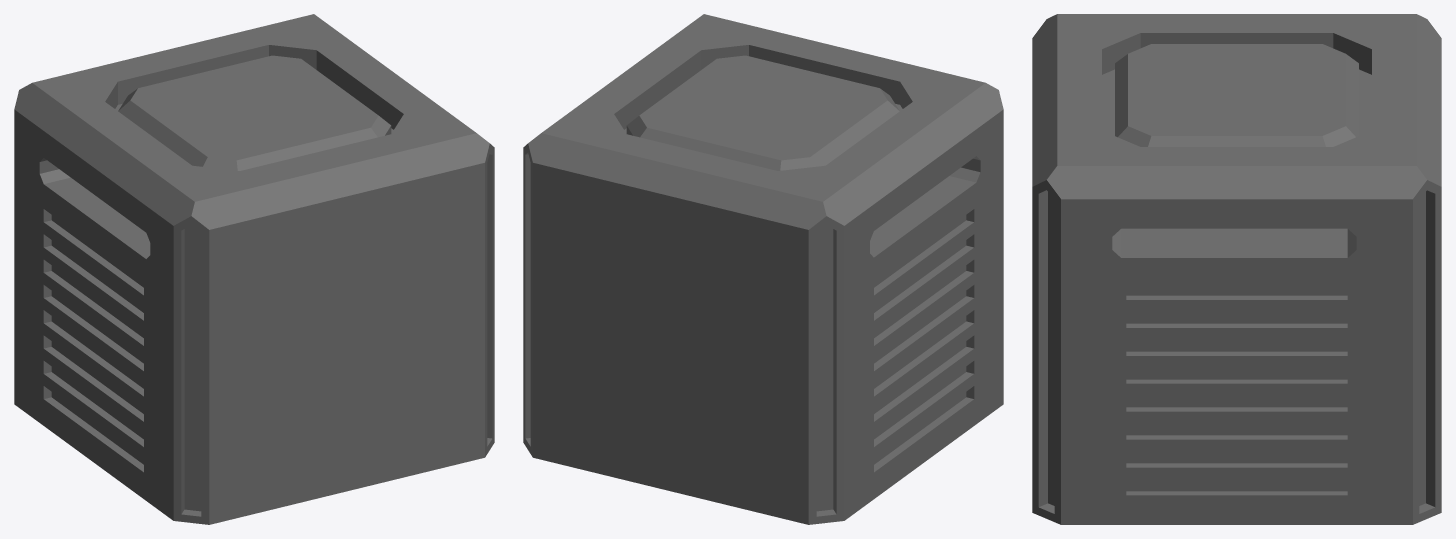
The picture shows the model from 3 angles, left to right: view 1: azimuth 30°, elevation 25°; view 2: azimuth 150°, elevation 25°; view 3: azimuth 270°, elevation 25°; orthographic projection. The views are drawn at different scales.
Parts seen in each view (by area): view 1: Main, Part1; view 2: Main, Part1; view 3: Main, Part1, Part2.
Part boxes in pixels (x1,y1,x2,y2): Main: (14,14,494,524); Part1: (43,209,143,472); Main: (523,14,1003,524); Part1: (874,209,974,472); Main: (1032,14,1441,524); Part1: (1126,285,1347,495); Part2: (1102,69,1371,135).
Bounding box in the file's own units: 100 × 93.89 × 100.
1 material, 1 textured.
